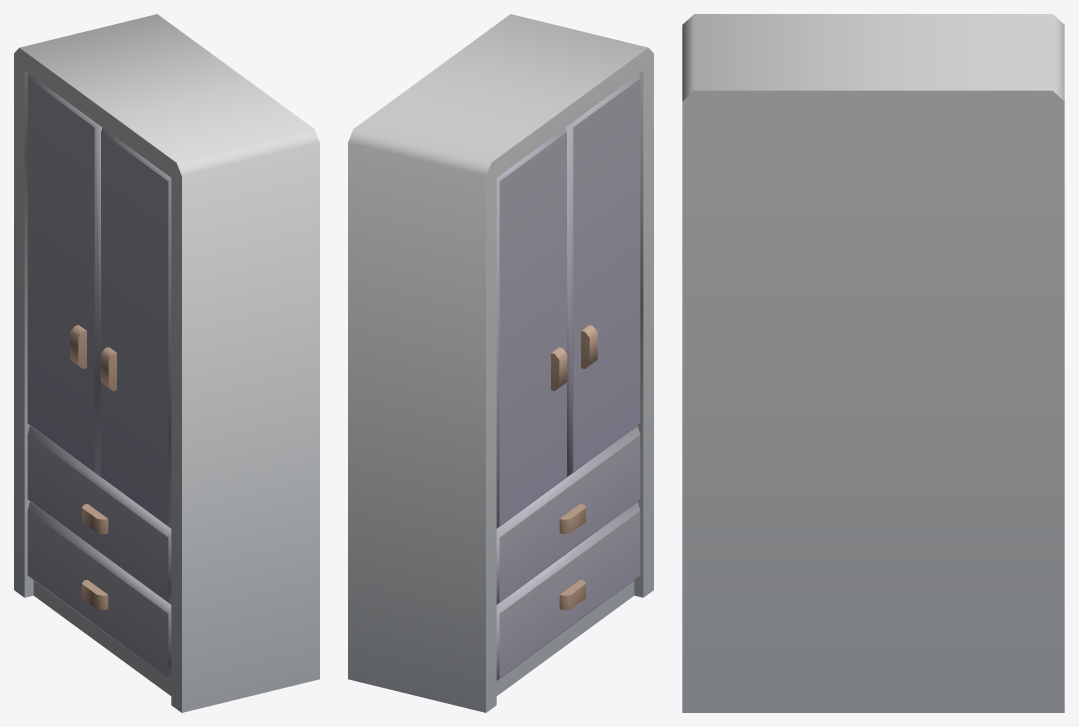
File: cabinet-clothing-drawers.glb
3 views of the same model, side by side, from view 1: azimuth 30°, elevation 25°; view 2: azimuth 150°, elevation 25°; view 3: azimuth 270°, elevation 25° (orthographic). The views are drawn at different scales.
Parts seen in each view (by area): view 1: cabinet-clothing-drawers; view 2: cabinet-clothing-drawers; view 3: cabinet-clothing-drawers.
Boxes of the visible parts, x1,y1,x2,y2 form: cabinet-clothing-drawers: [14, 14, 319, 712]; cabinet-clothing-drawers: [348, 14, 653, 712]; cabinet-clothing-drawers: [682, 14, 1064, 712].
Bounding box in the file's own units: 0.403 × 1.44 × 0.8.
